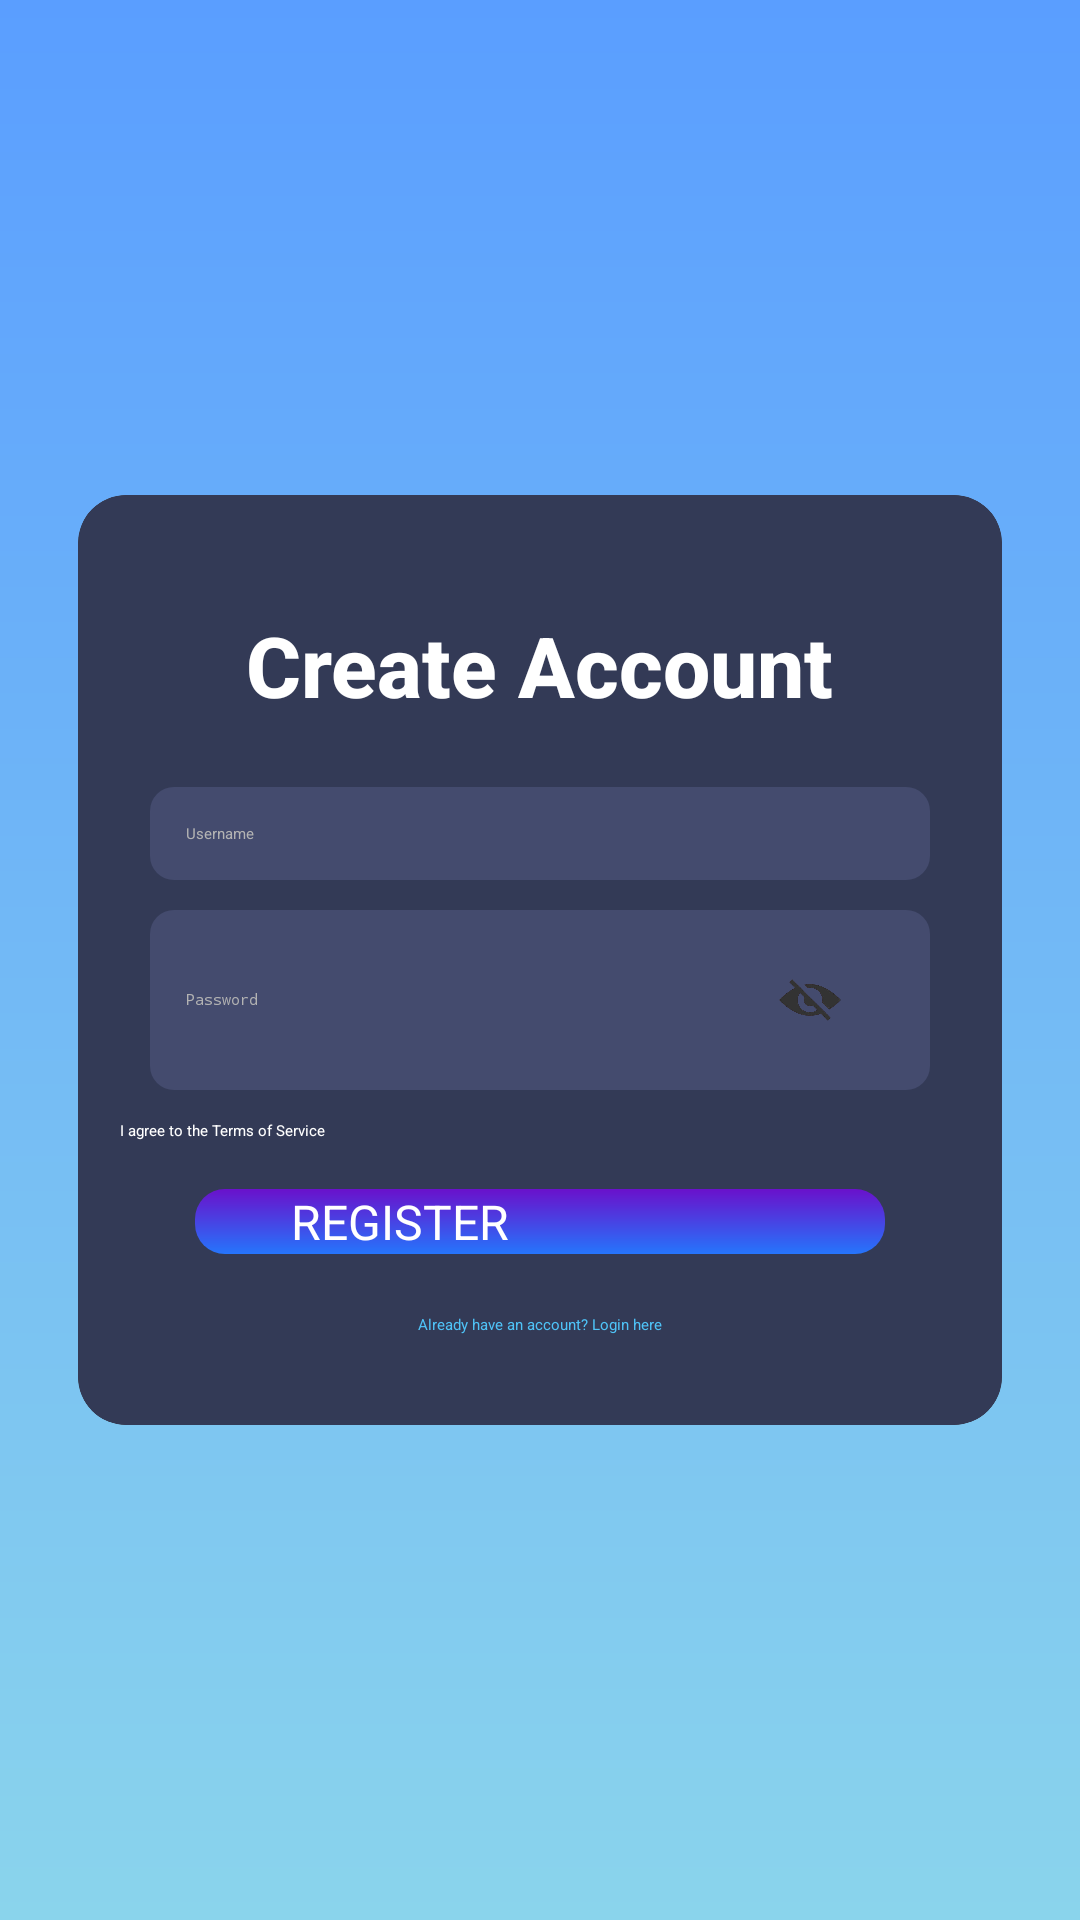

Named icons in this screenshot (1080w x 1920h) and their bounding boxes, (x1, y1, x2, y2):
eye: (780, 980, 841, 1020)
